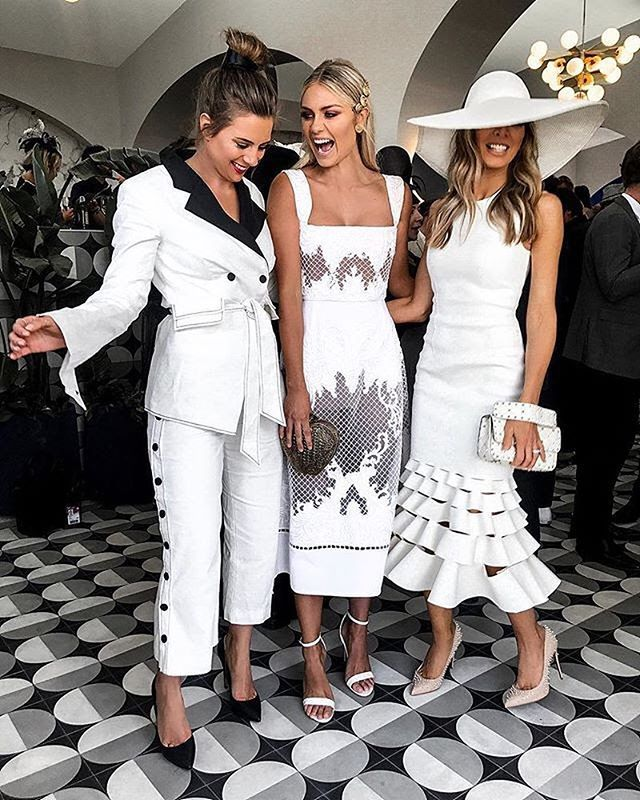Person: (9, 30, 280, 772), (410, 69, 608, 709), (279, 58, 411, 724)
